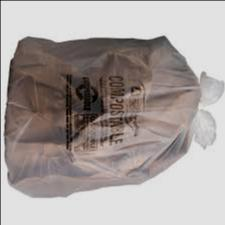Plastic: (1, 36, 224, 204)
